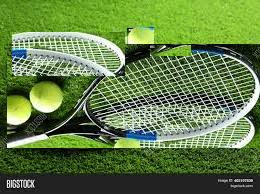tennis ball: (205, 80, 238, 110), (127, 28, 154, 53), (237, 69, 260, 97)
tennis racket: (7, 44, 260, 148), (13, 33, 124, 75), (151, 46, 190, 55)
